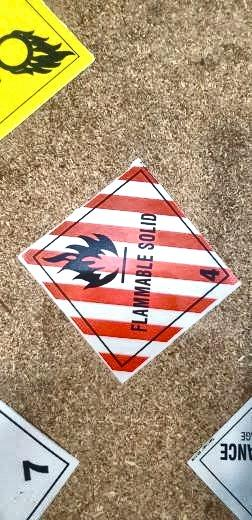flammable-solid: (13, 158, 242, 385)
